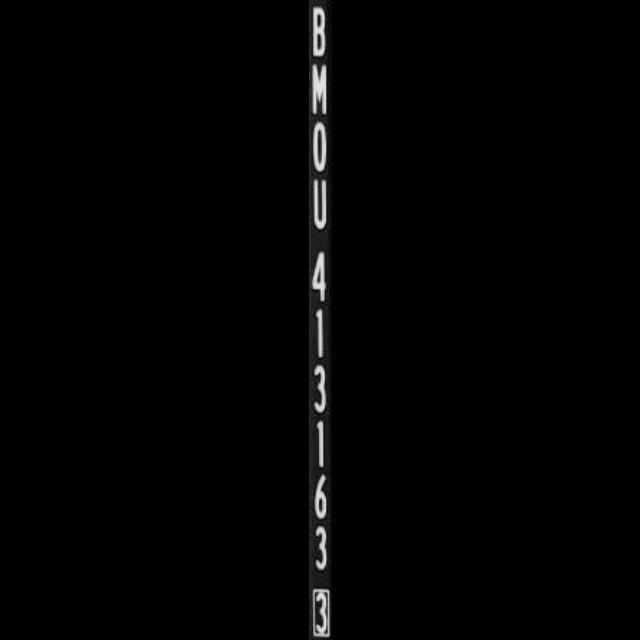0: (308, 120, 332, 172)
1: (308, 412, 332, 470), (308, 304, 332, 358)
3: (308, 584, 332, 640), (308, 359, 332, 413), (308, 522, 332, 572)
4: (308, 242, 332, 304)
6: (308, 470, 332, 526)
b: (308, 0, 332, 58)
m: (308, 58, 332, 115)
u: (308, 170, 332, 234)
